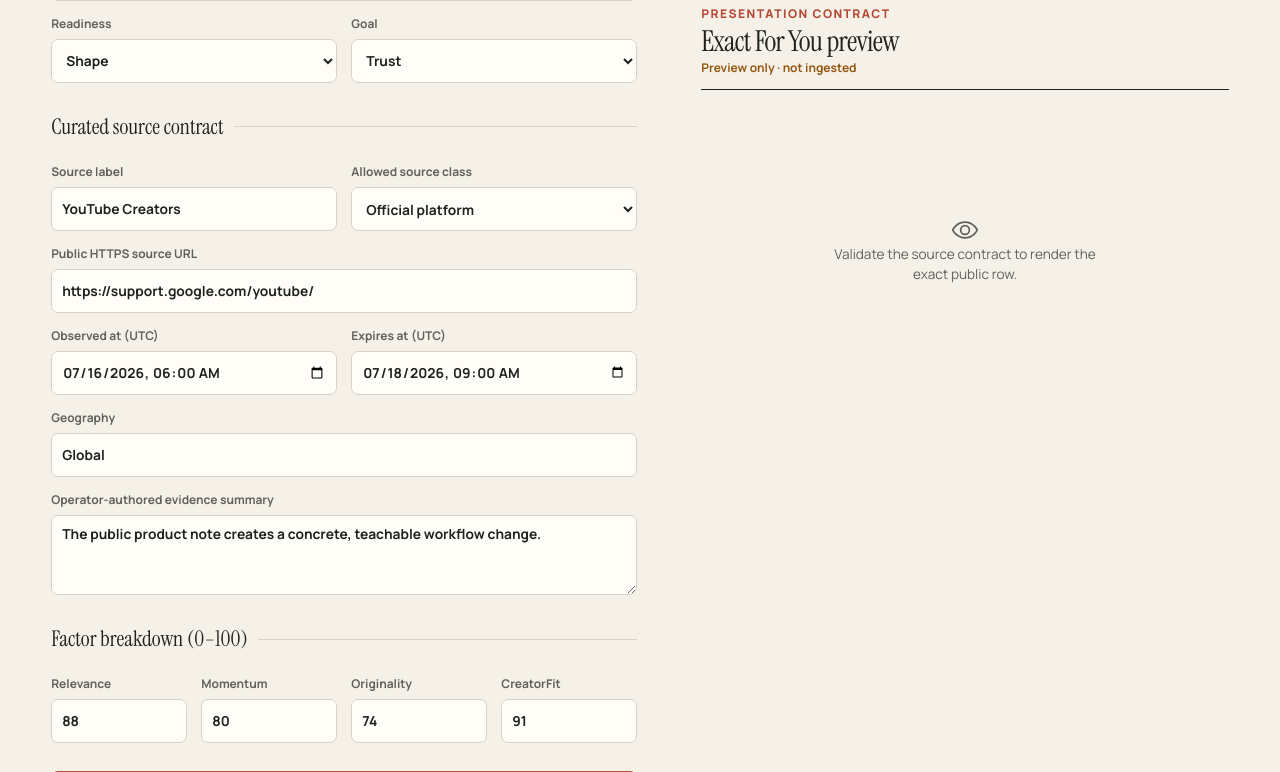
Test: Curated operator contract and craft guidance › checks operator expiry against the current clock rather than the demo clock
(page scrolled)
Replace the text in the field labelled "Expires at (UTC)" with "2026-07-16T08:00" at point(494, 373), box top-left (351, 351), bottom-right (637, 395)
(page scrolled)
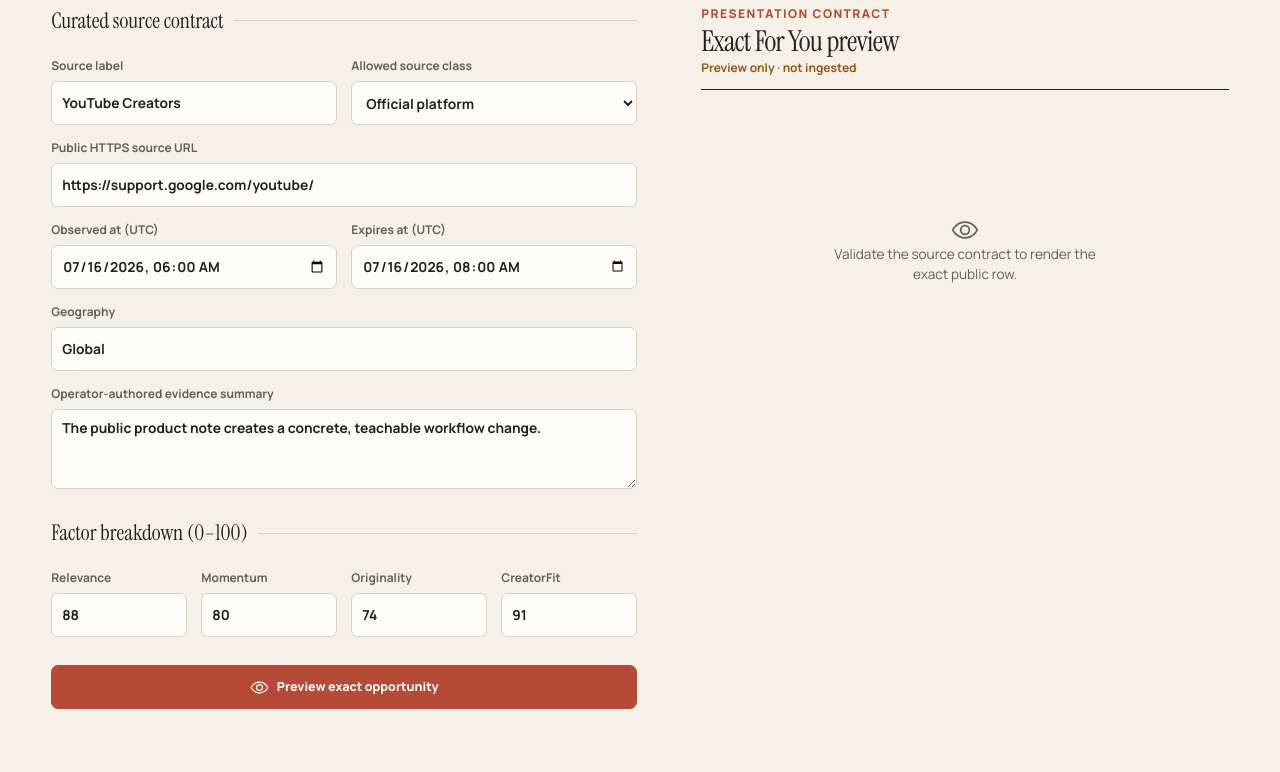
Click the button "Preview exact opportunity" at point(344, 687), box top-left (51, 665), bottom-right (637, 709)
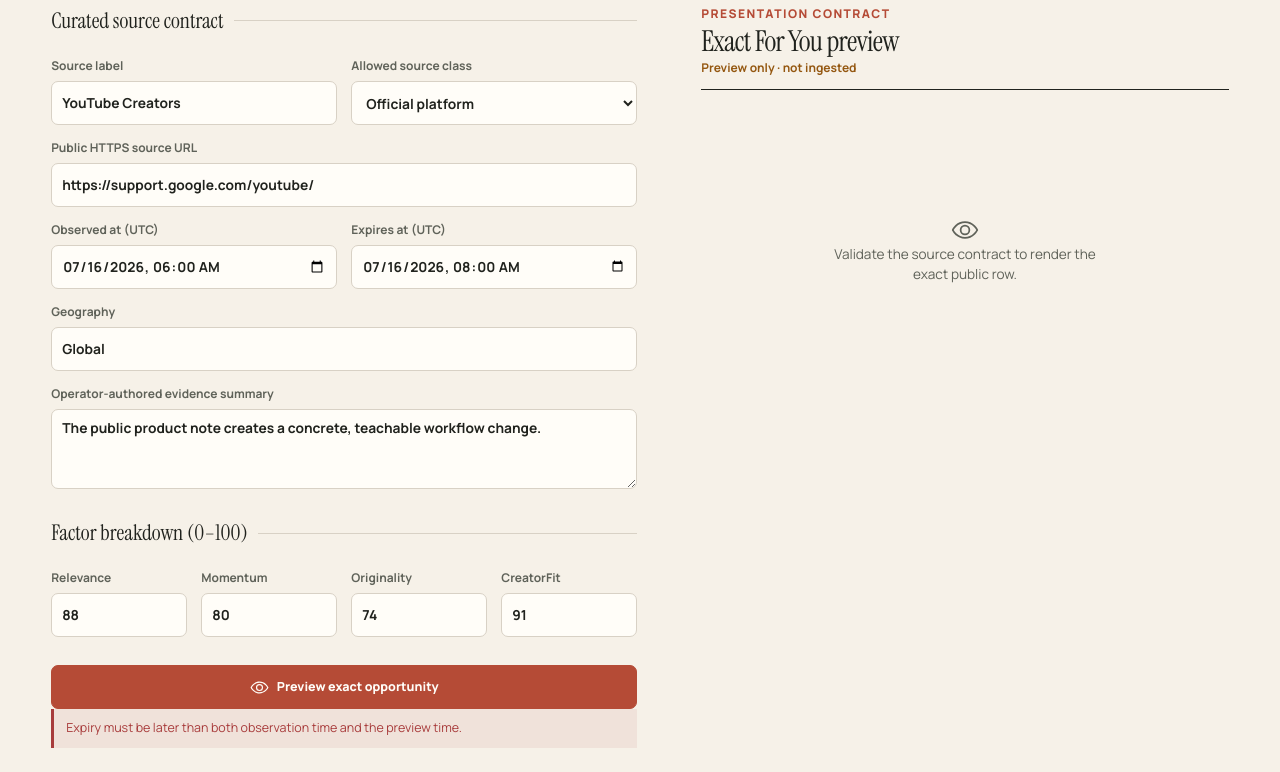
Expected: the message shows "Expiry", top-left (66, 719), bottom-right (462, 736)
